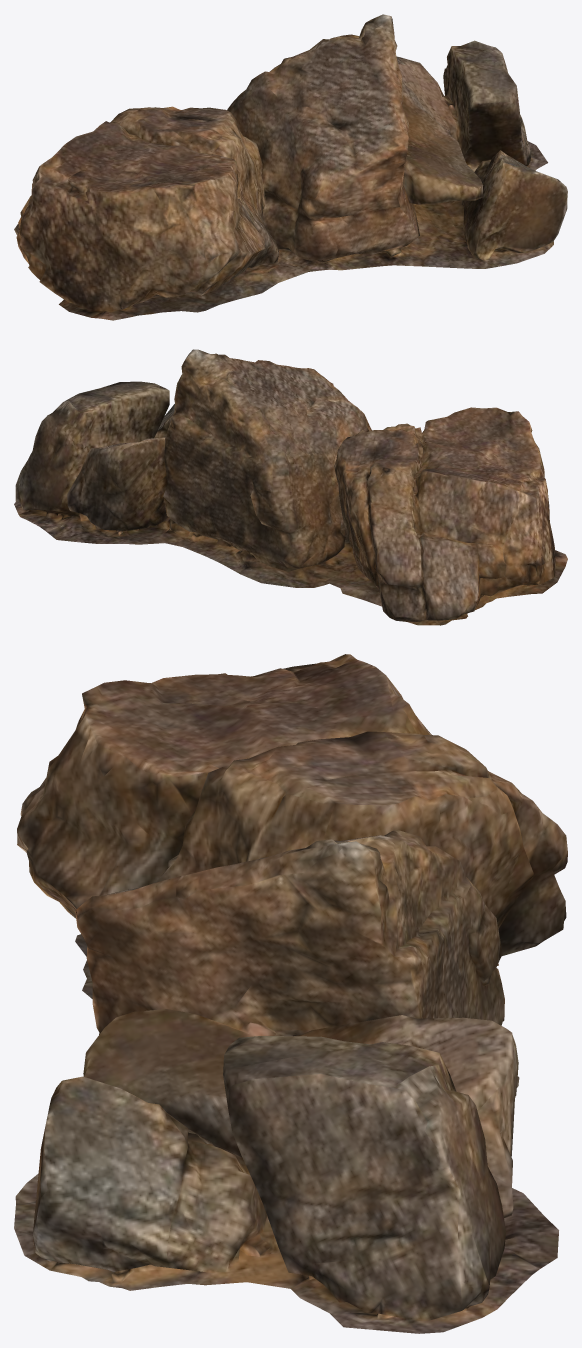
The model's file is namaqualand_boulder_02.glb.
3 views of the same model, one above another, from view 1: azimuth 30°, elevation 25°; view 2: azimuth 150°, elevation 25°; view 3: azimuth 270°, elevation 25° (orthographic). The views are drawn at different scales.
Parts seen in each view (by area): view 1: boulder_02; view 2: boulder_02; view 3: boulder_02.
Boxes of the visible parts, x1=… form: boulder_02: x1=14, y1=14, x2=567, y2=320; boulder_02: x1=14, y1=349, x2=567, y2=625; boulder_02: x1=14, y1=654, x2=567, y2=1333.
Bounding box in the file's own units: 2.53 × 0.8804 × 1.23.
1 material, 1 textured.
